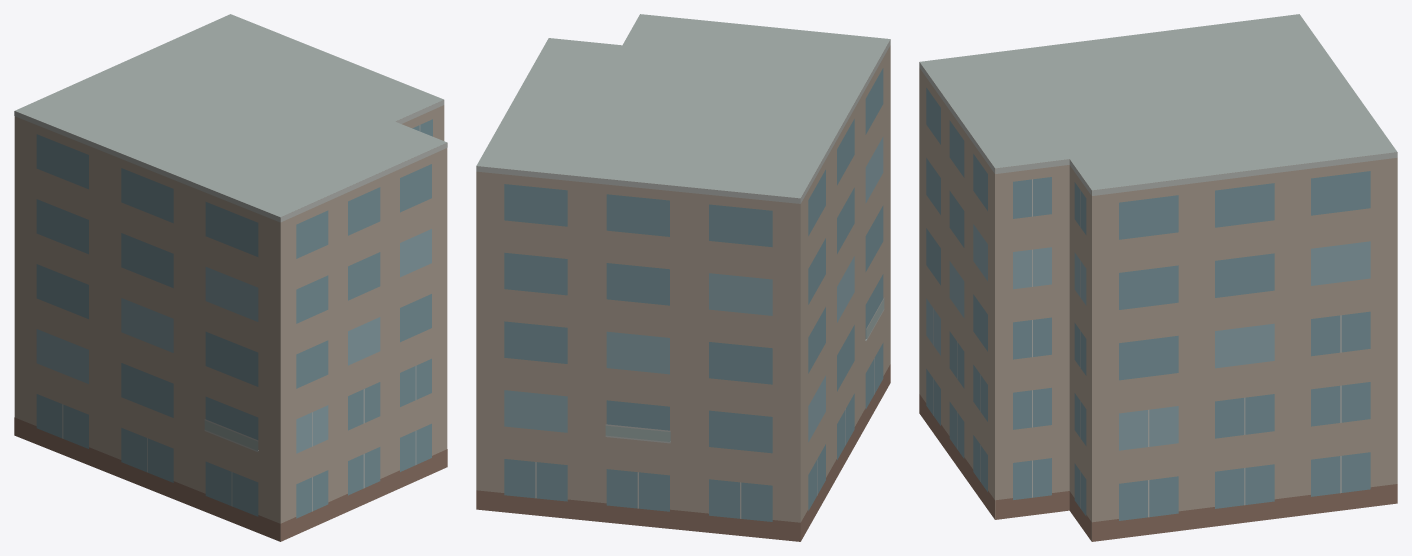
Rendered from survey-upis-32612291.glb.
3 views of the same model, side by side, from view 1: azimuth 30°, elevation 25°; view 2: azimuth 150°, elevation 25°; view 3: azimuth 270°, elevation 25° (orthographic). The views are drawn at different scales.
Visible parts, largest first — view 1: survey-upis-32612291.tmp; view 2: survey-upis-32612291.tmp; view 3: survey-upis-32612291.tmp.
Boxes of the visible parts, x1,y1,x2,y2 form: survey-upis-32612291.tmp: (14,14,447,541); survey-upis-32612291.tmp: (476,14,890,541); survey-upis-32612291.tmp: (919,14,1397,541).
Bounding box in the file's own units: 16.16 × 15 × 18.5.
